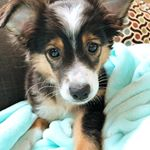puppy: (1, 1, 123, 138)
